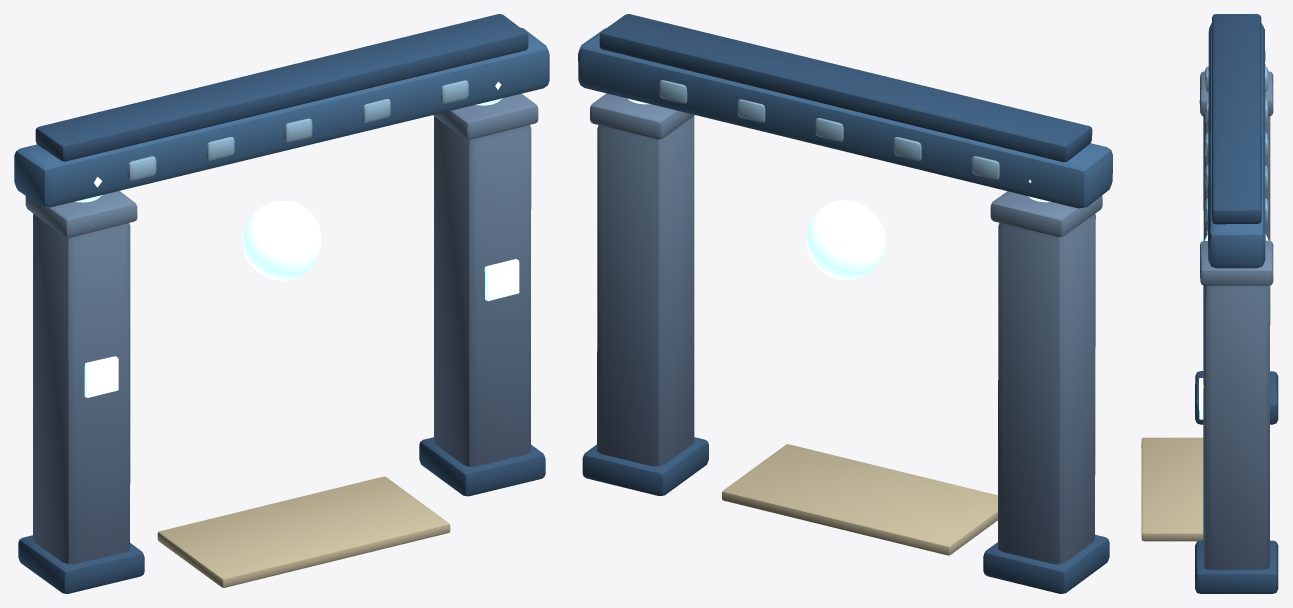
3 renders of one model, left to right at view 1: azimuth 30°, elevation 25°; view 2: azimuth 150°, elevation 25°; view 3: azimuth 270°, elevation 25°, orthographic. The views are drawn at different scales.
Parts seen in each view (by area): view 1: gate_75d1da4d; view 2: gate_75d1da4d; view 3: gate_75d1da4d.
Boxes of the visible parts, left/top/right/bottom form: gate_75d1da4d: left=14, top=14, right=549, bottom=593; gate_75d1da4d: left=578, top=14, right=1112, bottom=593; gate_75d1da4d: left=1141, top=14, right=1278, bottom=593.
Bounding box in the file's own units: 5.36 × 4.44 × 1.44.
